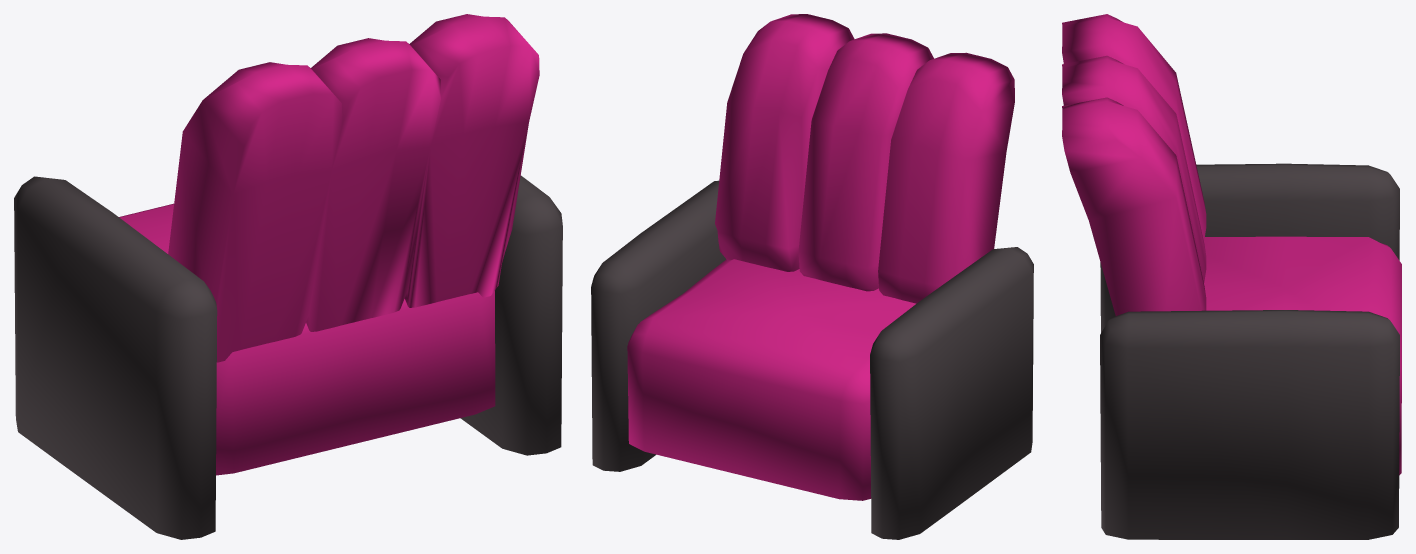
Rendered from ChairC2_geo.fbx.
The picture shows the model from 3 angles, left to right: view 1: azimuth 30°, elevation 25°; view 2: azimuth 150°, elevation 25°; view 3: azimuth 270°, elevation 25°; orthographic projection. The views are drawn at different scales.
Parts seen in each view (by area): view 1: ChairC2_geo; view 2: ChairC2_geo; view 3: ChairC2_geo.
Part boxes in pixels (bbox=[...]): ChairC2_geo: bbox=[14, 14, 562, 539]; ChairC2_geo: bbox=[591, 14, 1033, 539]; ChairC2_geo: bbox=[1062, 14, 1401, 539].
Bounding box in the file's own units: 0.8272 × 0.6937 × 0.8748.
